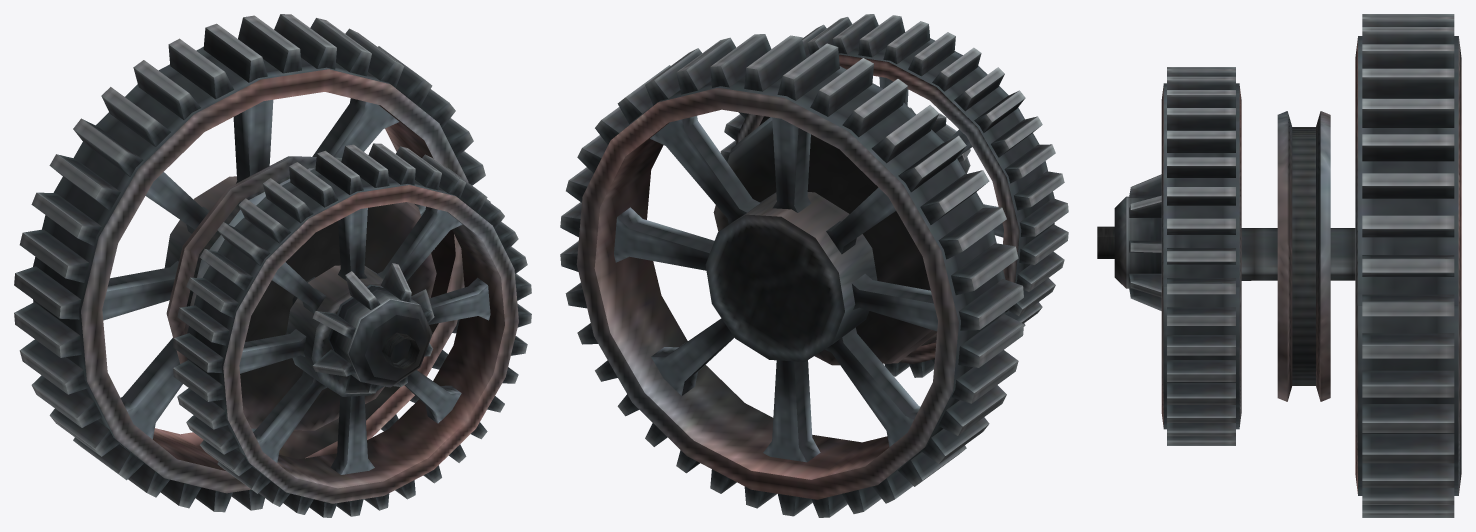
Rendered from SM_EN_1002_chilun01.FBX.
The picture shows the model from 3 angles, left to right: view 1: azimuth 30°, elevation 25°; view 2: azimuth 150°, elevation 25°; view 3: azimuth 270°, elevation 25°; orthographic projection. The views are drawn at different scales.
Parts seen in each view (by area): view 1: SM_EN_1002_chilun01; view 2: SM_EN_1002_chilun01; view 3: SM_EN_1002_chilun01.
Part boxes in pixels (<box>): SM_EN_1002_chilun01: <box>14,14,531,517</box>; SM_EN_1002_chilun01: <box>560,14,1068,517</box>; SM_EN_1002_chilun01: <box>1097,14,1461,517</box>.
Size of the model in its own units: 124 by 124 by 89.65.
